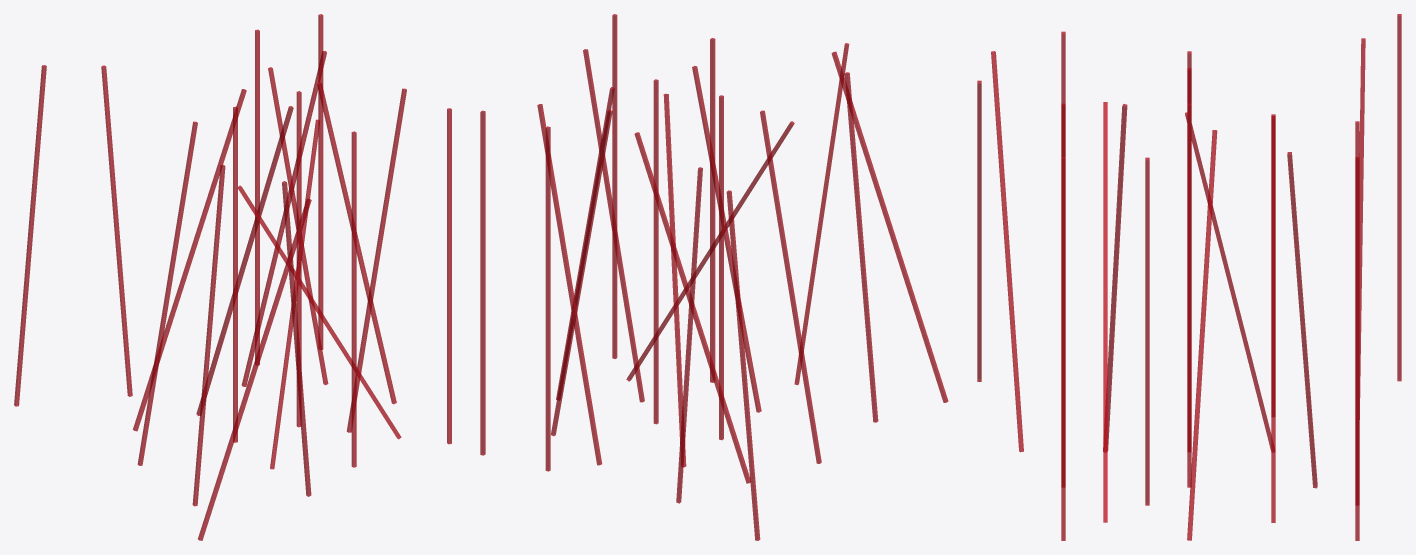
Rendered from laserRouge.fbx.
The picture shows the model from 3 angles, left to right: view 1: azimuth 30°, elevation 25°; view 2: azimuth 150°, elevation 25°; view 3: azimuth 270°, elevation 25°; orthographic projection. The views are drawn at different scales.
Visible parts, largest first — view 1: Cube.016; view 2: Cube.016; view 3: Cube.016.
Part boxes in pixels (x1,y1,x2,y2): Cube.016: (14,14,451,540); Cube.016: (480,14,948,540); Cube.016: (977,14,1401,540).
Size of the model in its own units: 91.06 by 101 by 101.
